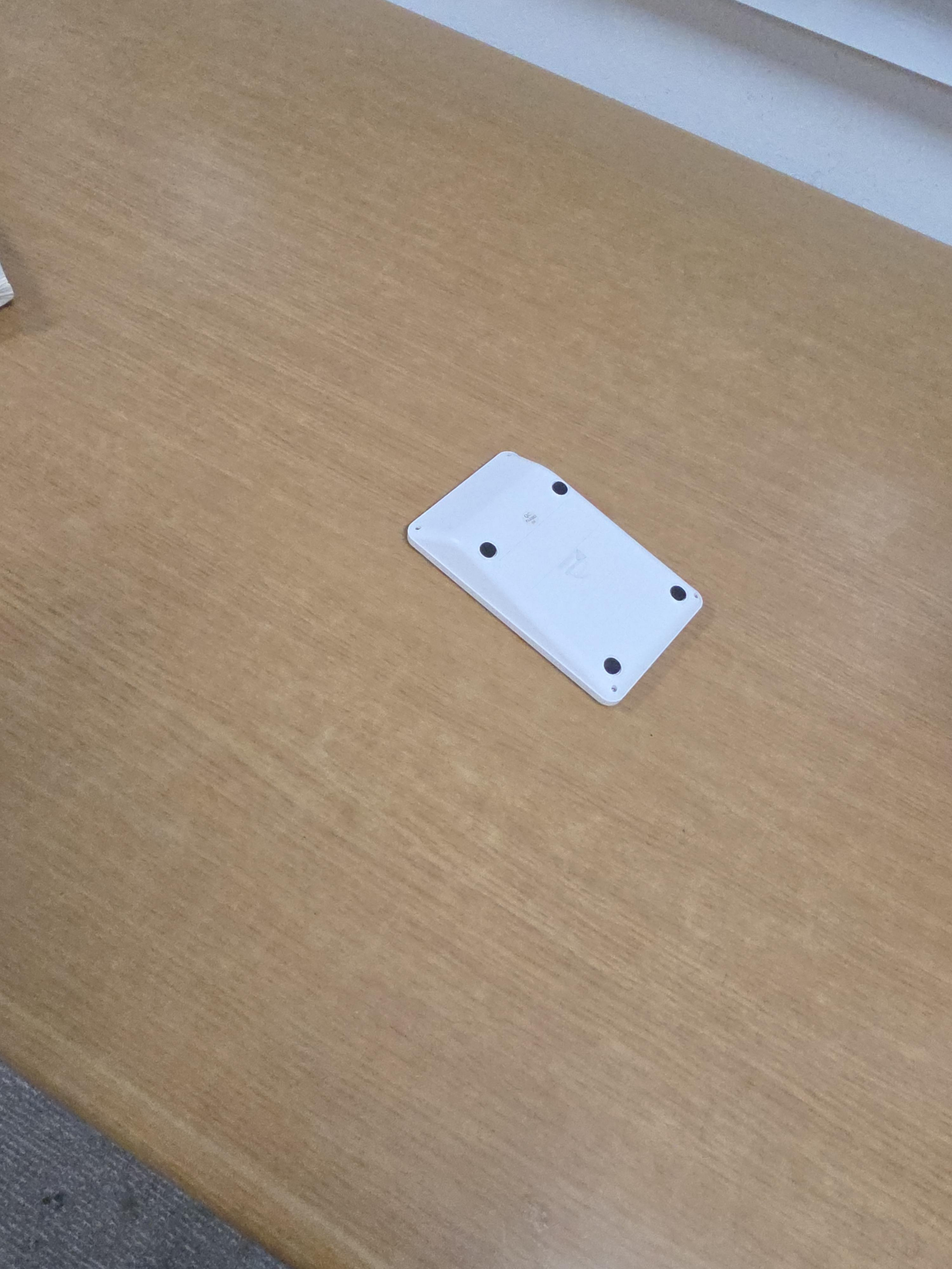calculator: (407, 451, 704, 707)
tissue: (0, 262, 15, 307)
